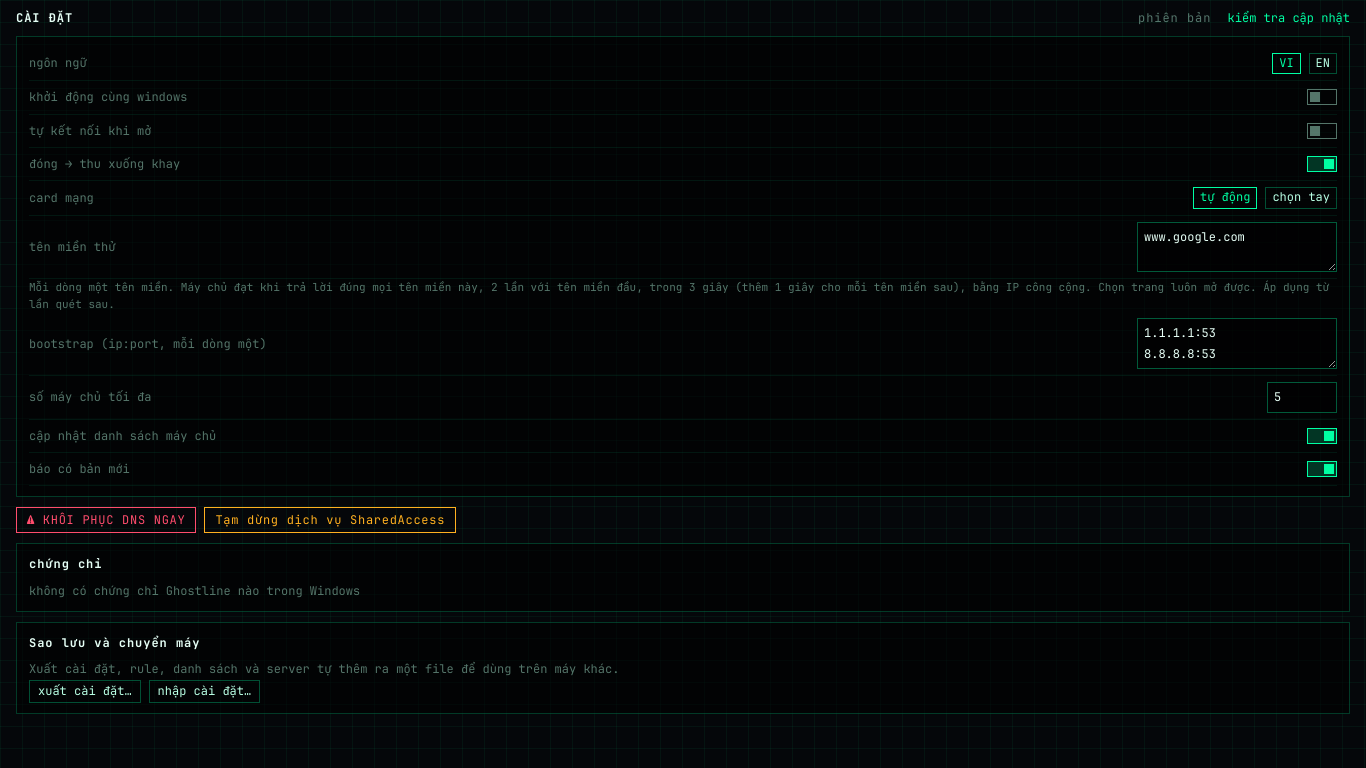
Test case: settings: a failed service stop is shown
Click the button "Tạm dừng dịch vụ SharedAccess": (330, 520) x1=204 y1=507 x2=456 y2=533
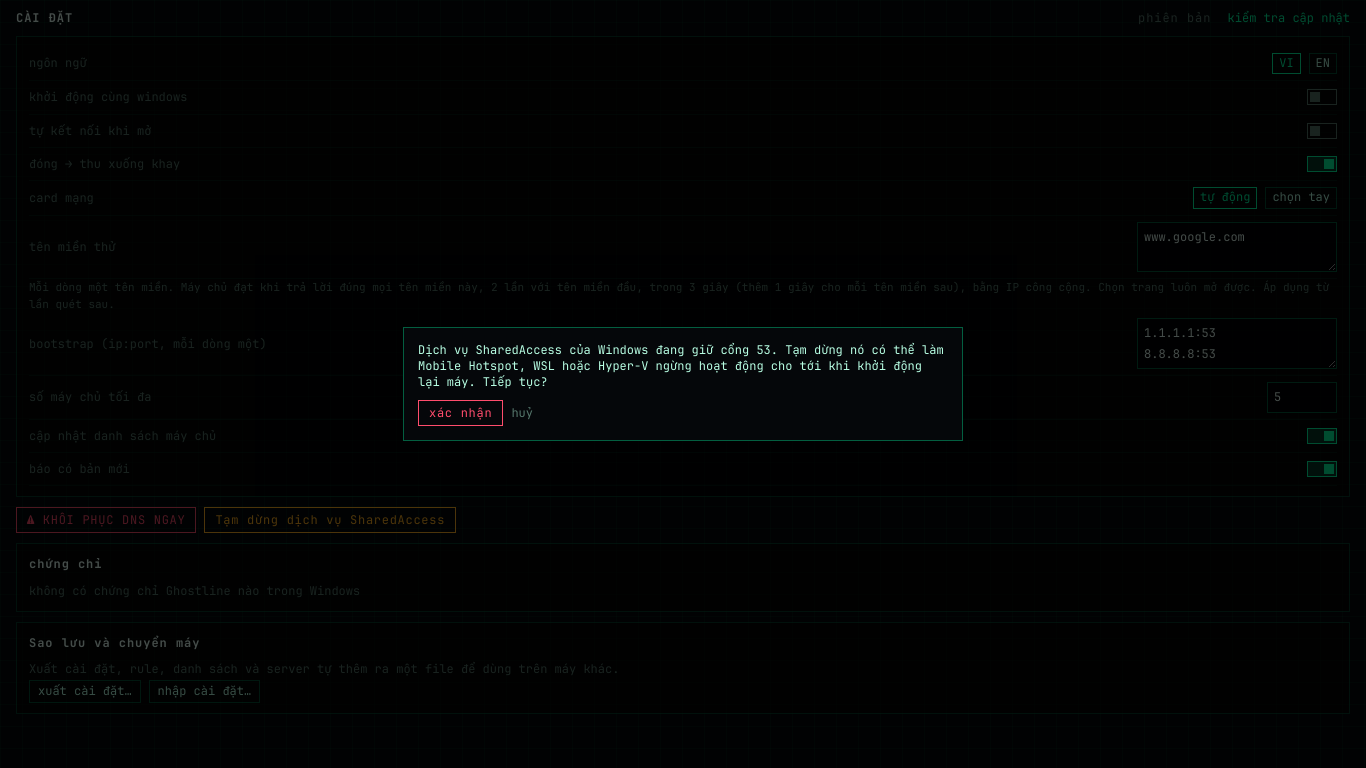
Click the button "xác nhận": (461, 413) x1=418 y1=400 x2=503 y2=426
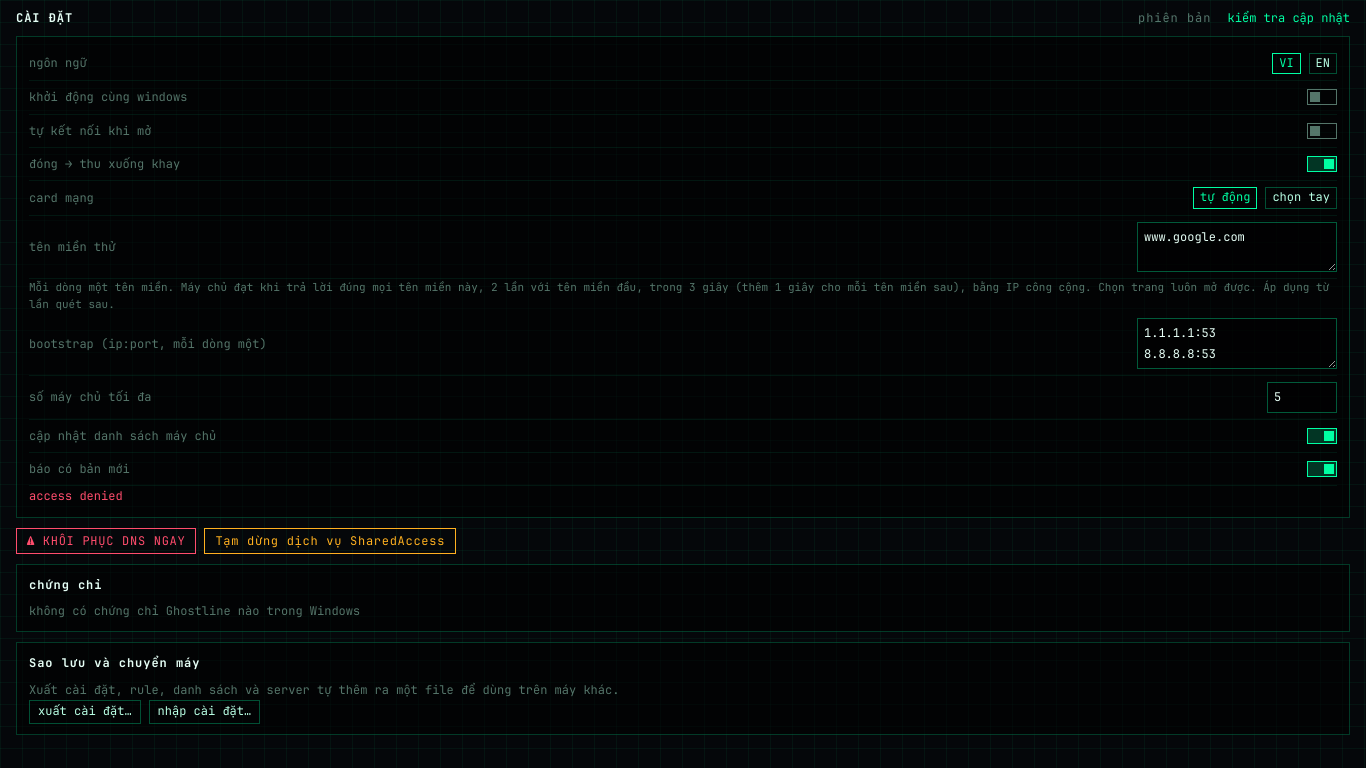
Result: the text "access denied" is shown at x1=29 y1=488 x2=123 y2=504
